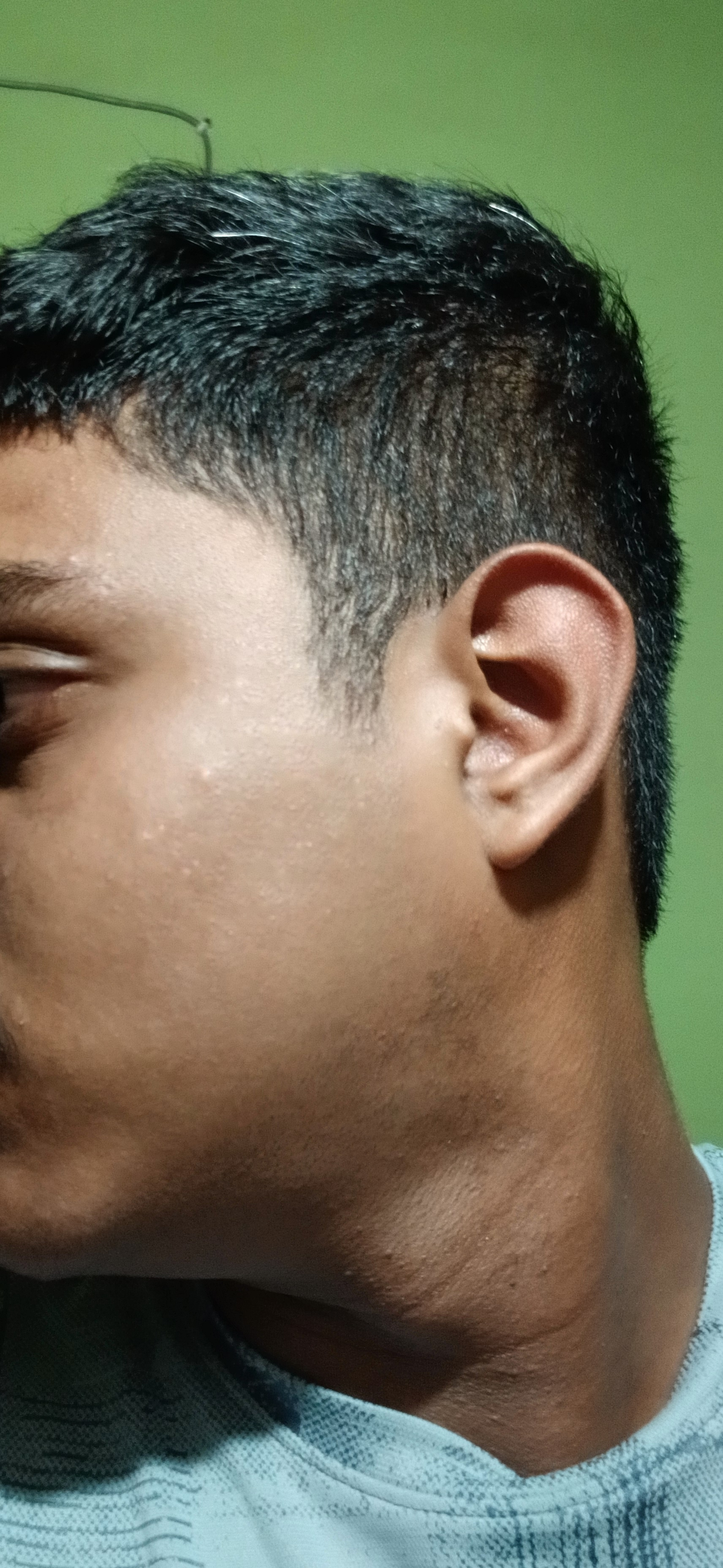macrocomedone: (59, 544, 89, 570)
